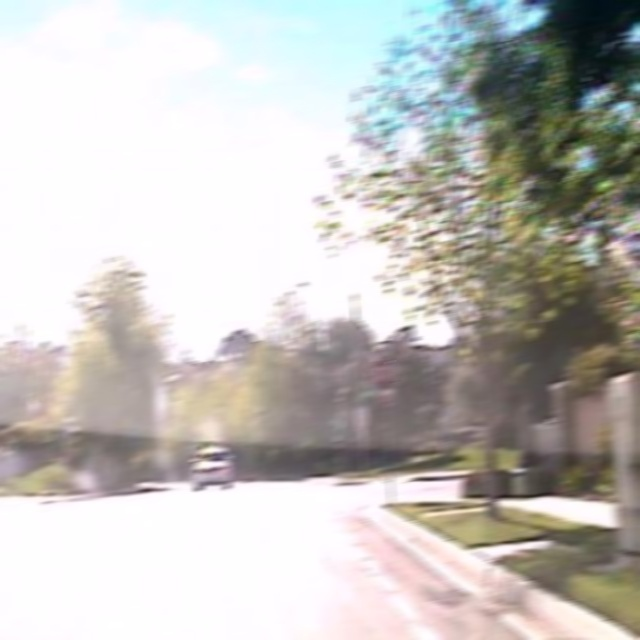stop: (372, 354, 400, 391)
